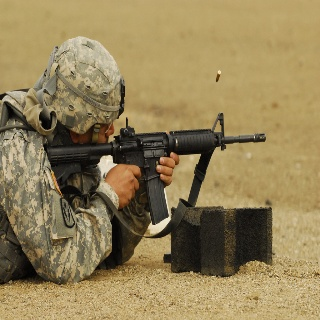rifle: (39, 112, 266, 224)
